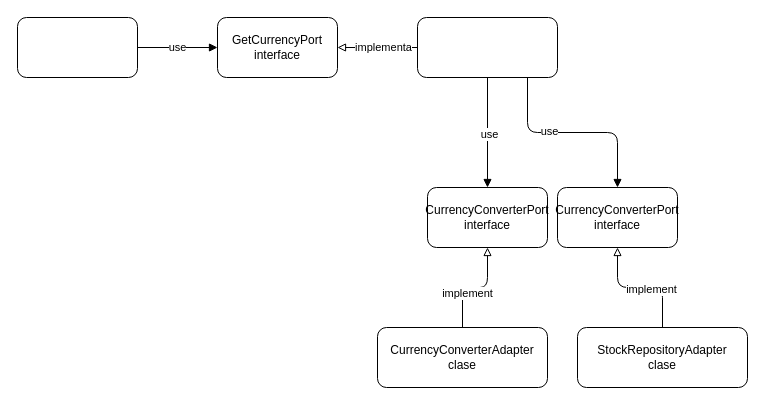
Image size: 765x405. Some labels were removed from this diagram. The centre of each missing label's shape, as x and y in pixels:
"GetCurrencyUseCase clase" goes at point 487,47.
"Lambda Adapter" goes at point 77,47.
